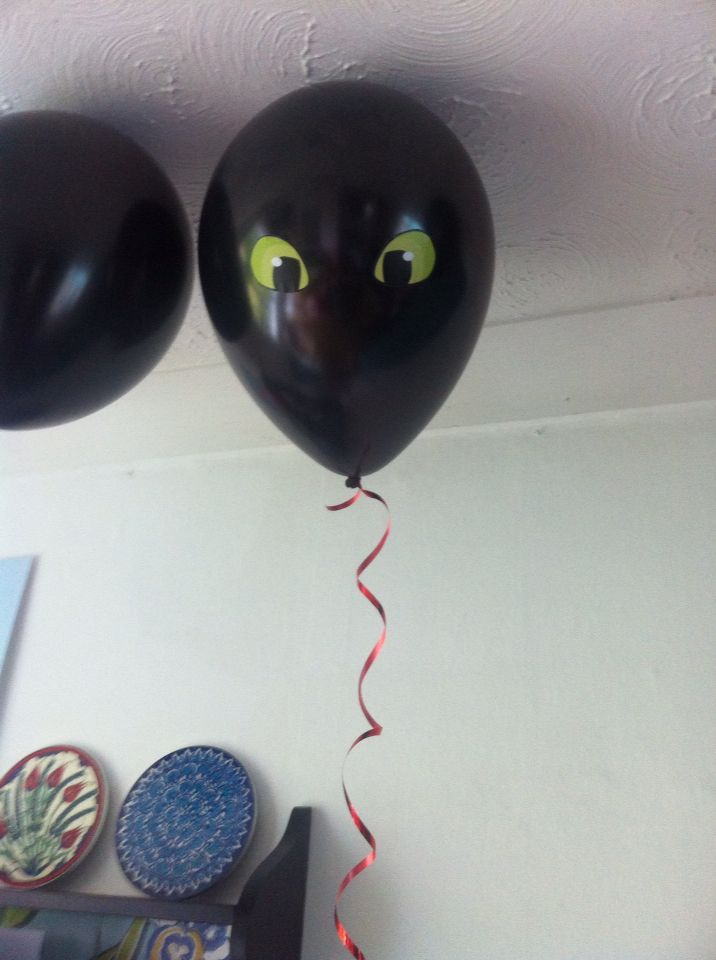Balloon: (197, 83, 494, 480), (1, 113, 191, 429)
